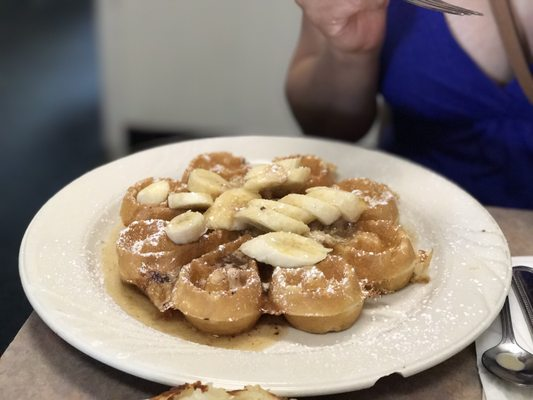salad: (481, 298, 533, 389)
